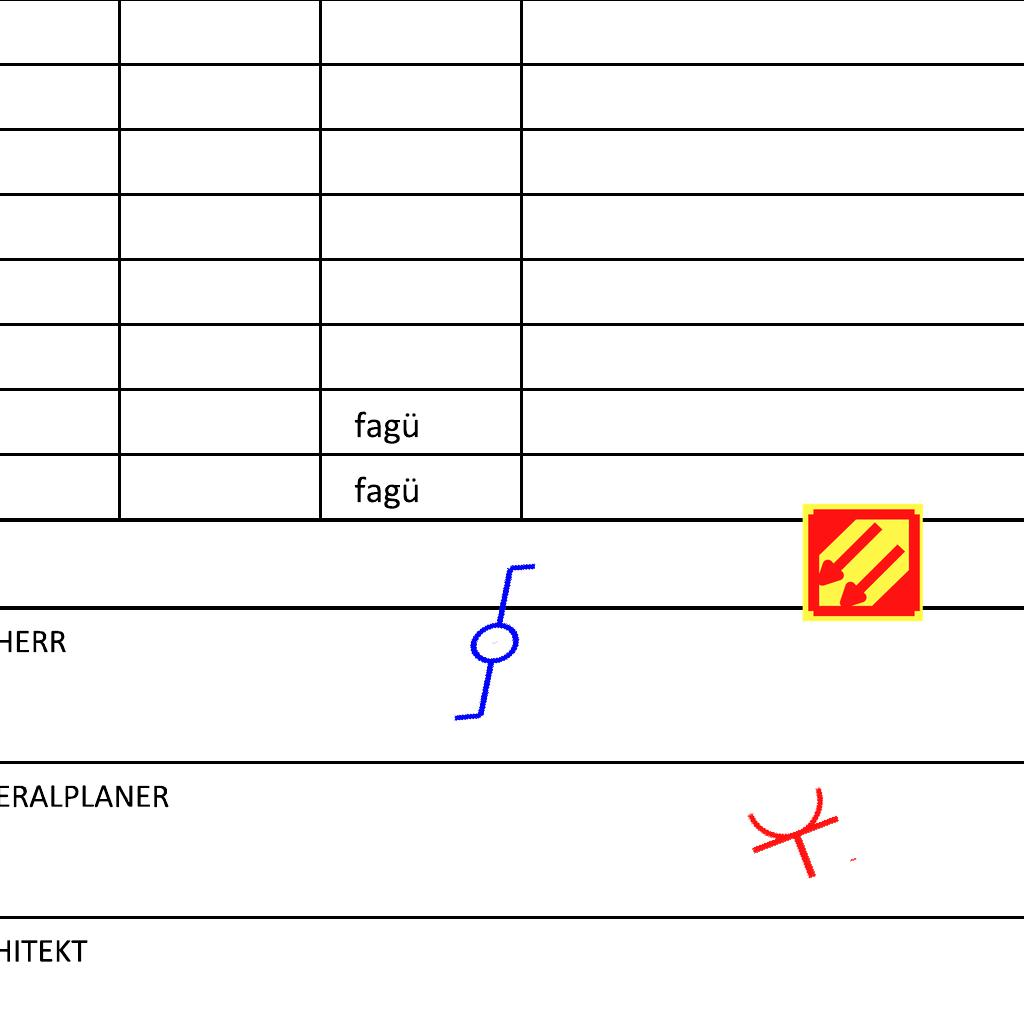ASR_Ansaugrauchmelder: (800, 500, 925, 625)
Schukosteckdose_einfach: (737, 779, 862, 897)
Wechselschalter: (387, 548, 586, 740)
